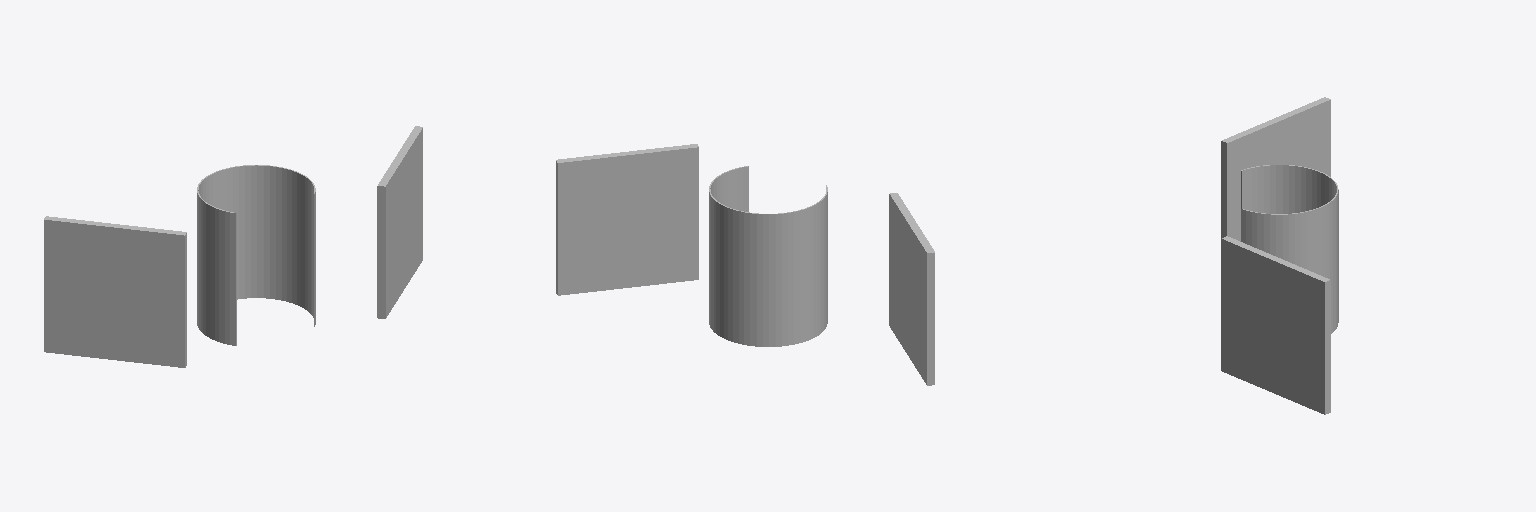
File: ArenaProjectionPlanes.obj
The picture shows the model from 3 angles: view 1: azimuth 30°, elevation 25°; view 2: azimuth 150°, elevation 25°; view 3: azimuth 270°, elevation 25°; orthographic projection.
Parts seen in each view (by area): view 1: mesh3, mesh14, mesh12, mesh8, mesh7, mesh10; view 2: mesh6, mesh12, mesh1, mesh14, mesh2, mesh4, mesh10; view 3: mesh8, mesh1, mesh12, mesh14, mesh9, mesh0, mesh4.
Part boxes in pixels (bbox=[...]): mesh3: bbox=[44, 220, 184, 367]; mesh14: bbox=[198, 165, 313, 317]; mesh12: bbox=[197, 192, 315, 345]; mesh8: bbox=[386, 128, 422, 317]; mesh7: bbox=[377, 186, 385, 318]; mesh10: bbox=[378, 126, 422, 186]; mesh6: bbox=[558, 147, 698, 295]; mesh12: bbox=[709, 192, 827, 346]; mesh1: bbox=[889, 194, 926, 384]; mesh14: bbox=[710, 166, 748, 211]; mesh2: bbox=[927, 253, 934, 385]; mesh4: bbox=[890, 193, 934, 252]; mesh10: bbox=[556, 144, 698, 162]; mesh8: bbox=[1221, 239, 1324, 414]; mesh1: bbox=[1227, 100, 1330, 241]; mesh12: bbox=[1241, 190, 1338, 333]; mesh14: bbox=[1242, 165, 1336, 213]; mesh9: bbox=[1325, 280, 1330, 414]; mesh0: bbox=[1221, 141, 1226, 238]; mesh4: bbox=[1222, 97, 1330, 142].
Bounding box in the file's own units: 0.1498 × 0.05 × 0.04.